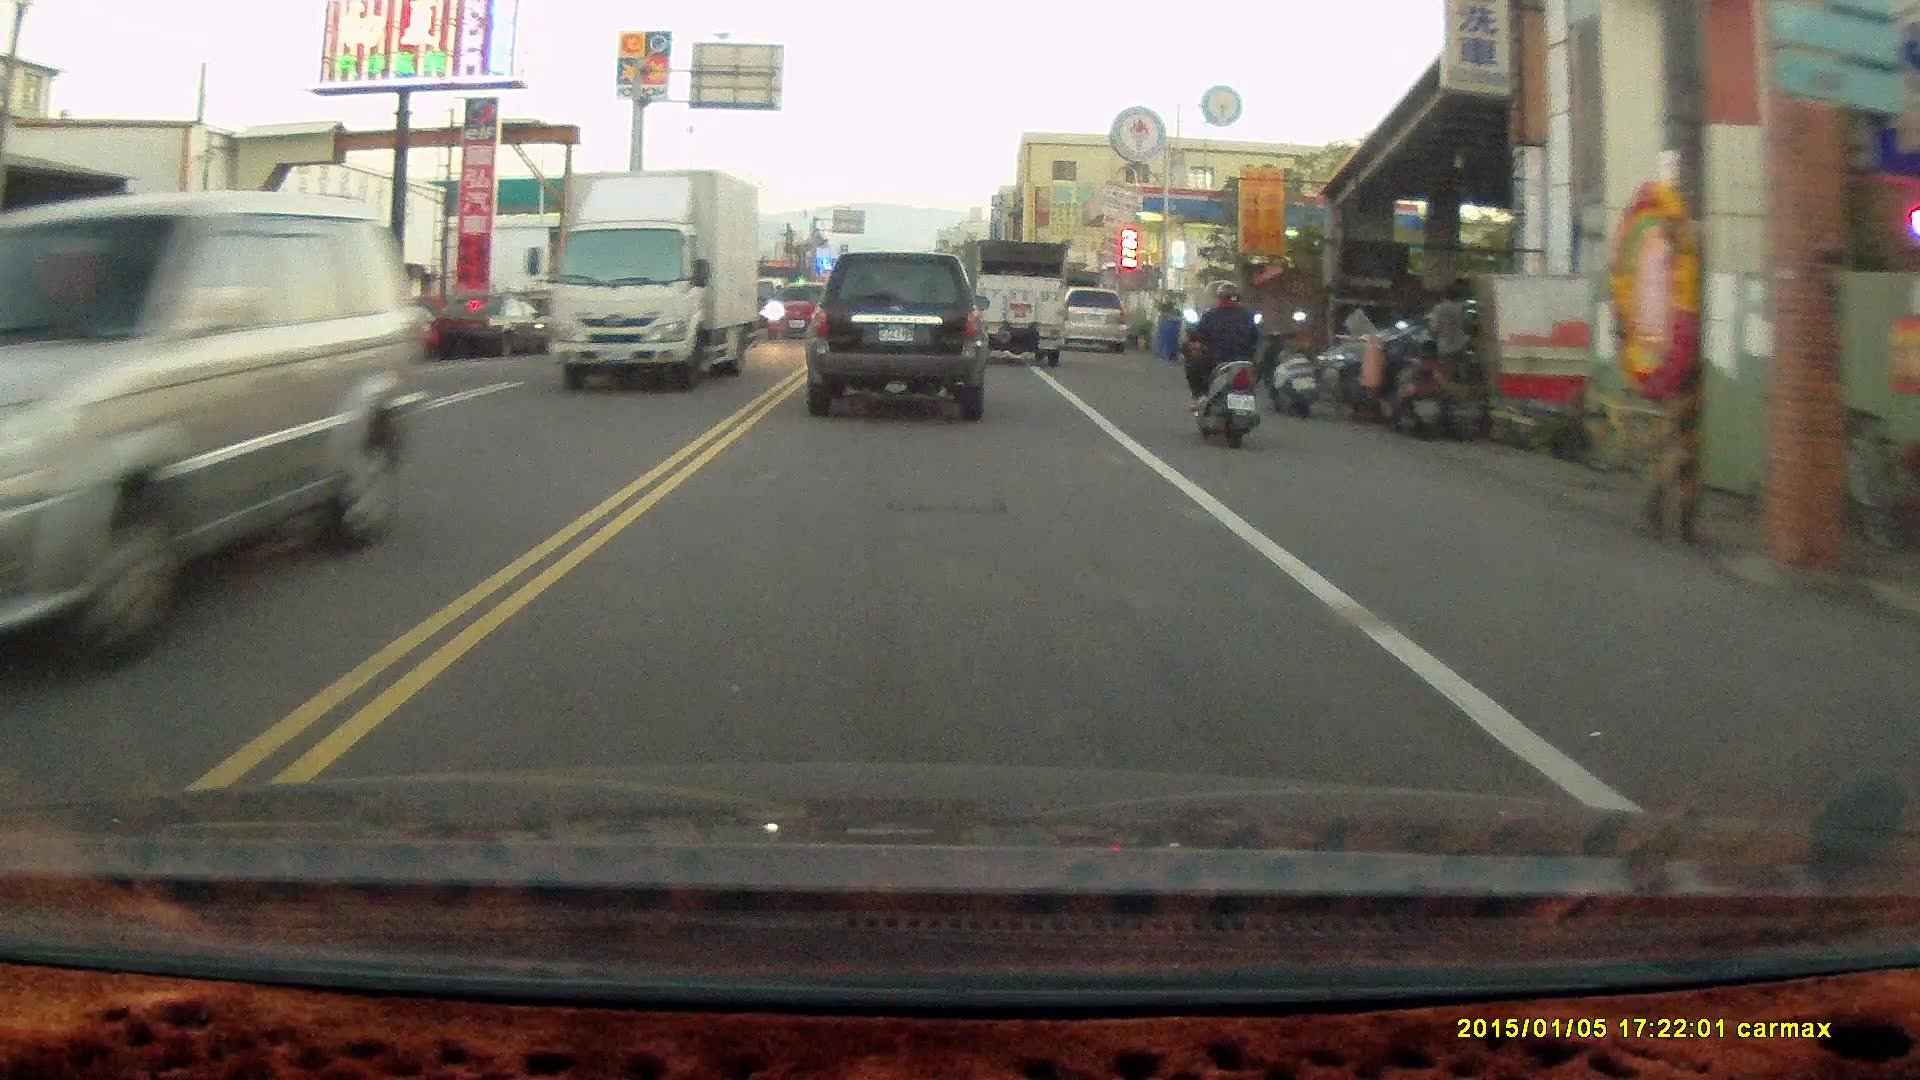pedestrian: (1425, 284, 1472, 413)
rider: (1178, 279, 1265, 450)
vehicle: (1, 190, 461, 630), (547, 168, 765, 395), (801, 250, 990, 424), (974, 237, 1067, 366), (1054, 286, 1129, 356)
